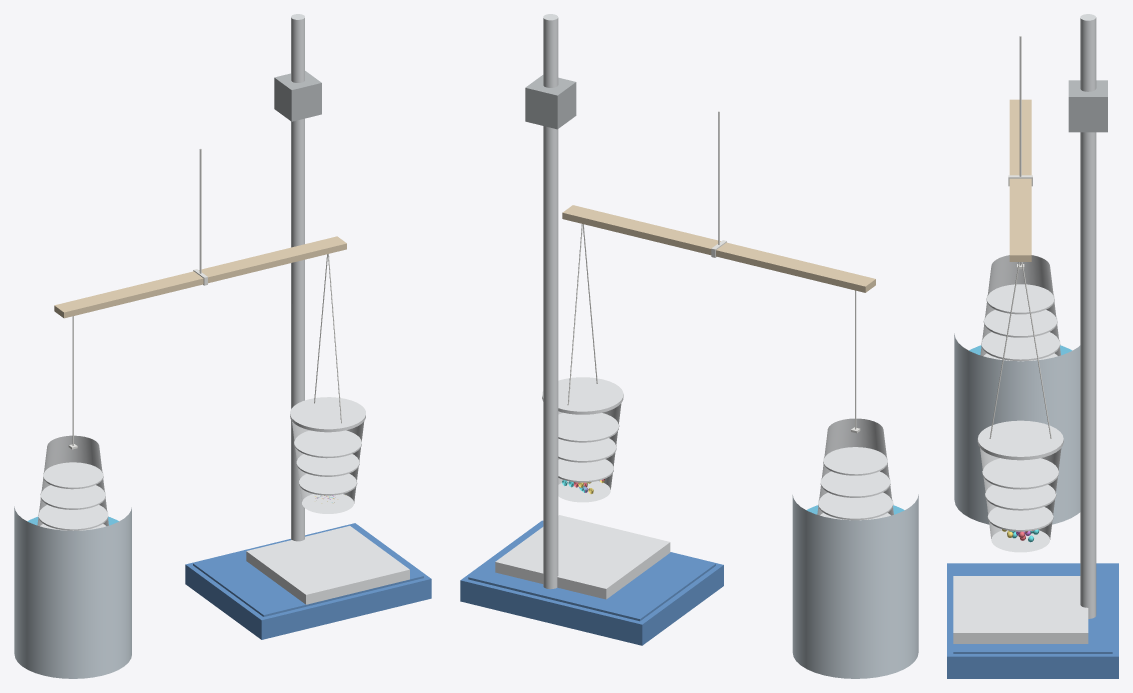
Rendered from surface_tension_apparatus.glb.
3 renders of one model, left to right at view 1: azimuth 30°, elevation 25°; view 2: azimuth 150°, elevation 25°; view 3: azimuth 270°, elevation 25°, orthographic. The views are drawn at different scales.
Visible parts, largest first — view 1: ClearPlasticCup, GlassBeaker, BaseMetalBlue, ChromeMetal, WoodLever, ClampMetal, WhiteString; view 2: ClearPlasticCup, GlassBeaker, BaseMetalBlue, ChromeMetal, WoodLever, ClampMetal, WhiteString; view 3: ClearPlasticCup, GlassBeaker, BaseMetalBlue, ChromeMetal, WoodLever, ClampMetal, WhiteString.
Boxes of the visible parts, left/top/right/bottom form: ClearPlasticCup: left=37, top=397, right=409, bottom=604; GlassBeaker: left=14, top=506, right=131, bottom=678; BaseMetalBlue: left=185, top=523, right=431, bottom=639; ChromeMetal: left=291, top=14, right=304, bottom=541; WoodLever: left=54, top=236, right=346, bottom=318; ClampMetal: left=274, top=71, right=321, bottom=121; WhiteString: left=68, top=148, right=341, bottom=449; ClearPlasticCup: left=495, top=377, right=893, bottom=599; GlassBeaker: left=792, top=494, right=918, bottom=678; BaseMetalBlue: left=460, top=520, right=723, bottom=645; ChromeMetal: left=543, top=14, right=558, bottom=589; WoodLever: left=562, top=205, right=875, bottom=292; ClampMetal: left=525, top=75, right=576, bottom=129; WhiteString: left=567, top=111, right=860, bottom=433; ClearPlasticCup: left=953, top=255, right=1088, bottom=643; GlassBeaker: left=954, top=333, right=1080, bottom=524; BaseMetalBlue: left=947, top=563, right=1118, bottom=678; ChromeMetal: left=1080, top=14, right=1096, bottom=618; WoodLever: left=1009, top=99, right=1031, bottom=261; ClampMetal: left=1068, top=80, right=1107, bottom=132; WhiteString: left=989, top=36, right=1051, bottom=438.
Size of the model in its own units: 39.9 by 56 by 14.
